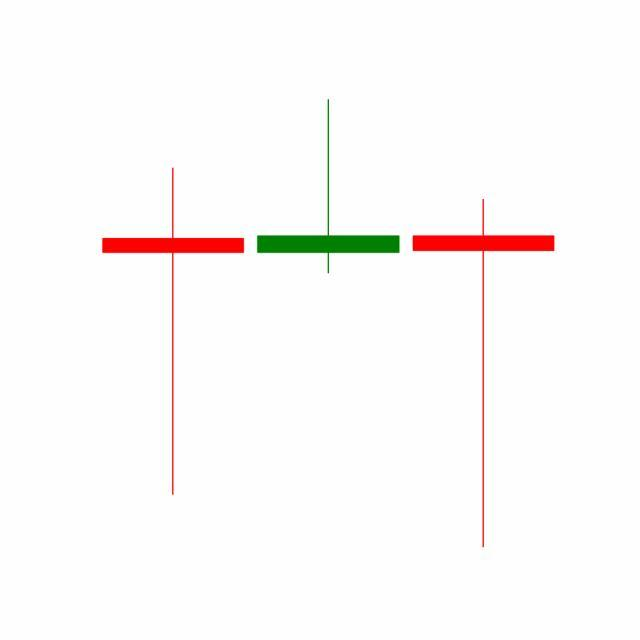Spinning Top: (406, 195, 562, 551)
